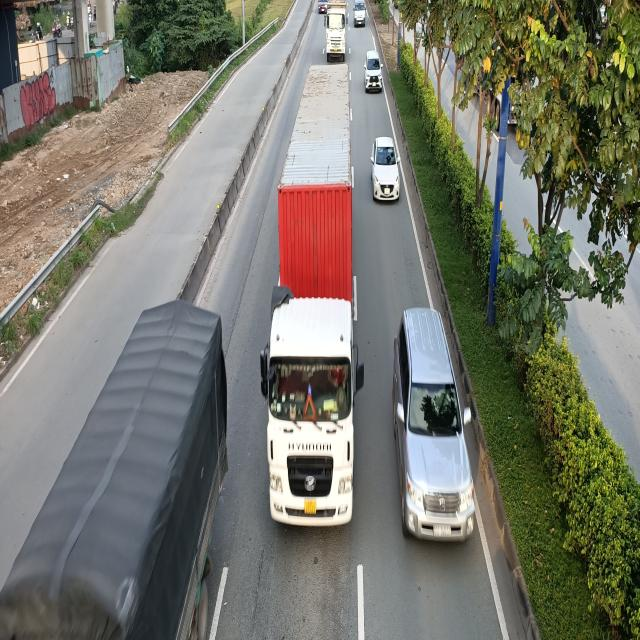car: (394, 308, 475, 546), (372, 137, 402, 203), (365, 49, 385, 93)
container: (262, 64, 366, 532)
truck: (0, 298, 230, 636), (323, 1, 347, 62)
